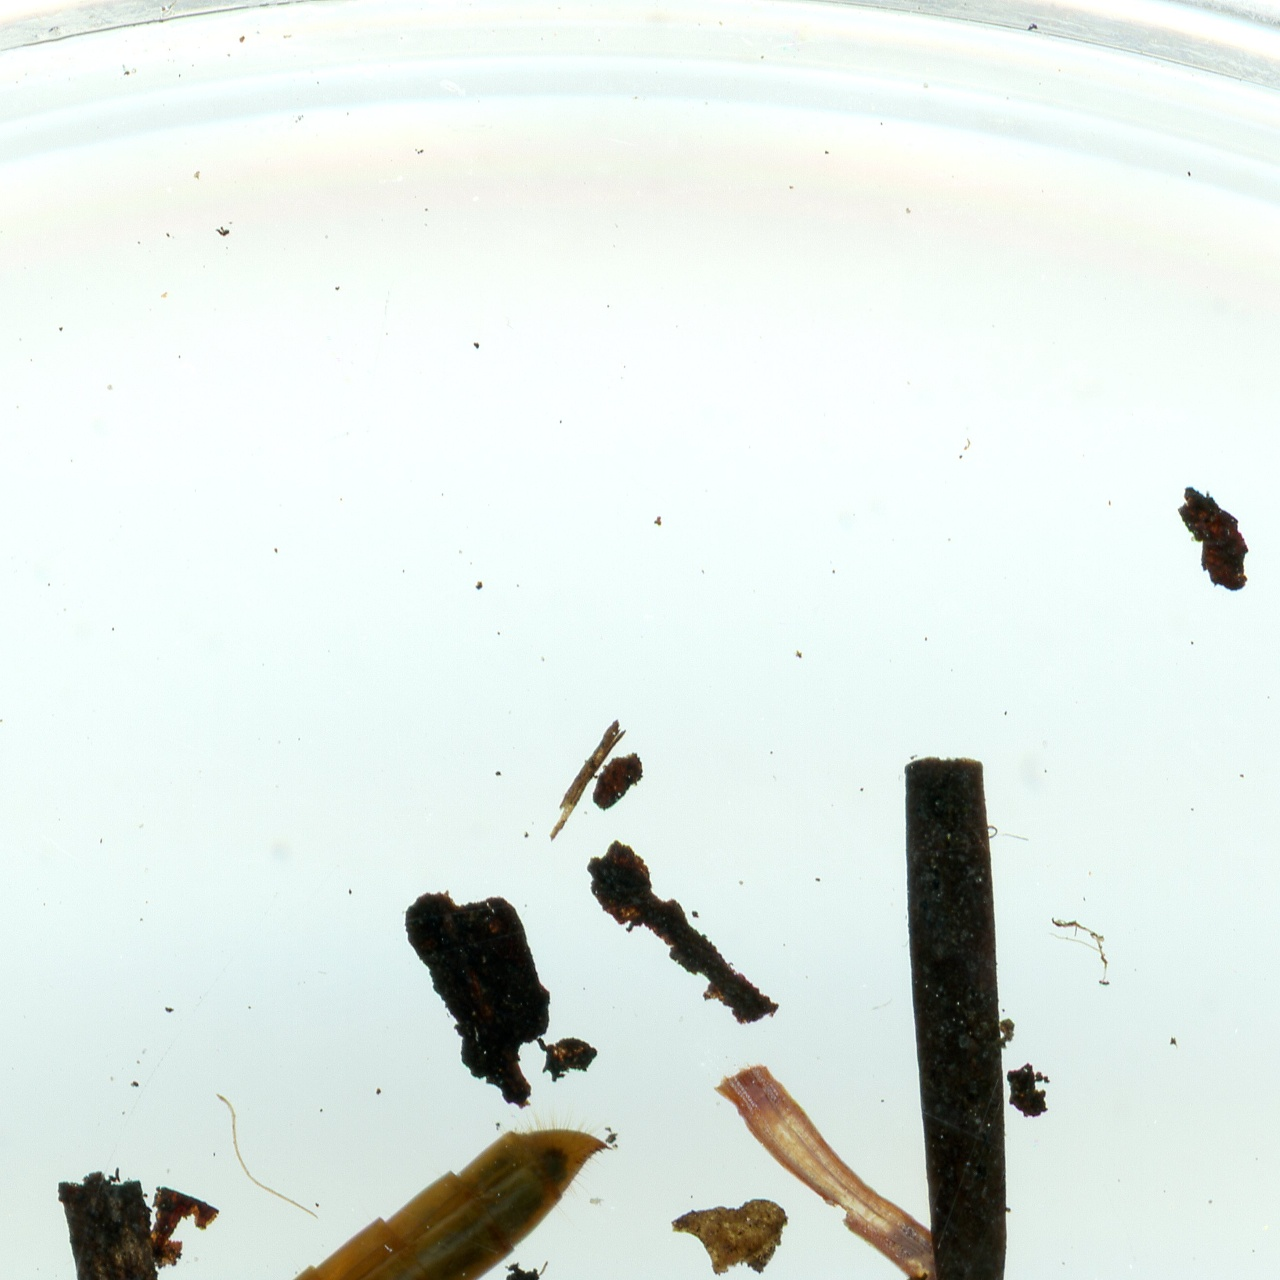arthropod: (0, 1123, 611, 1280)
